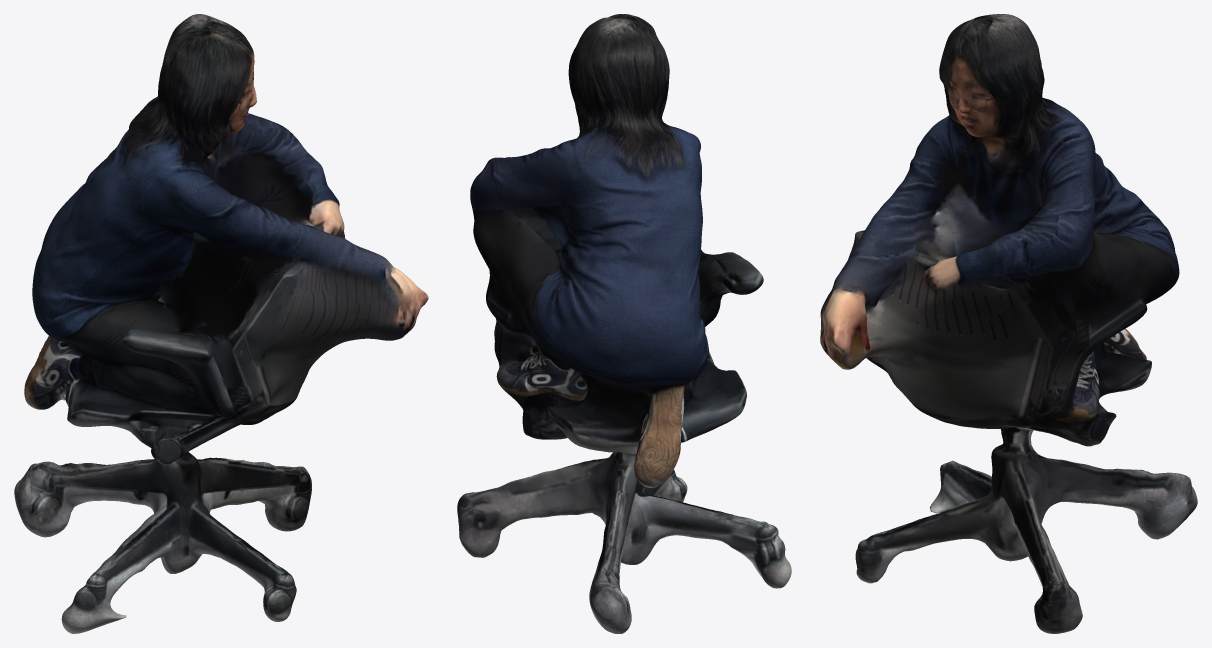
The model's file is Amber.fbx.
3 renders of one model, left to right at view 1: azimuth 30°, elevation 25°; view 2: azimuth 150°, elevation 25°; view 3: azimuth 270°, elevation 25°, orthographic. The views are drawn at different scales.
Parts seen in each view (by area): view 1: Object; view 2: Object; view 3: Object.
Part boxes in pixels (x1=…): Object: x1=14, y1=14, x2=428, y2=633; Object: x1=457, y1=14, x2=791, y2=633; Object: x1=820, y1=14, x2=1197, y2=633.
Size of the model in its own units: 48 by 85.58 by 51.56.
